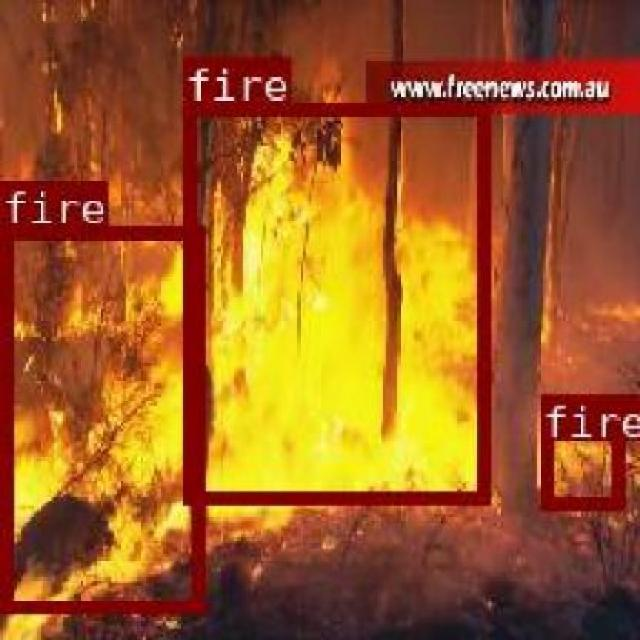fire: (182, 99, 487, 501), (0, 226, 200, 612), (538, 392, 620, 506)
